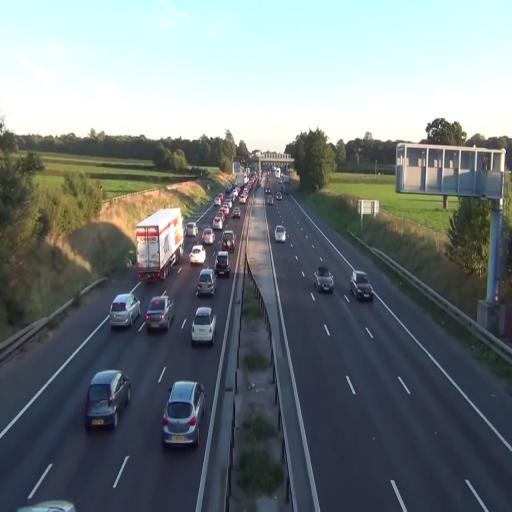vehicle: (135, 206, 184, 284), (84, 369, 132, 430), (162, 380, 205, 447), (109, 292, 141, 330), (146, 294, 174, 332), (190, 306, 216, 346), (351, 270, 373, 302), (195, 269, 216, 301), (314, 268, 334, 294), (214, 250, 232, 278), (189, 244, 206, 266), (274, 224, 288, 242)
